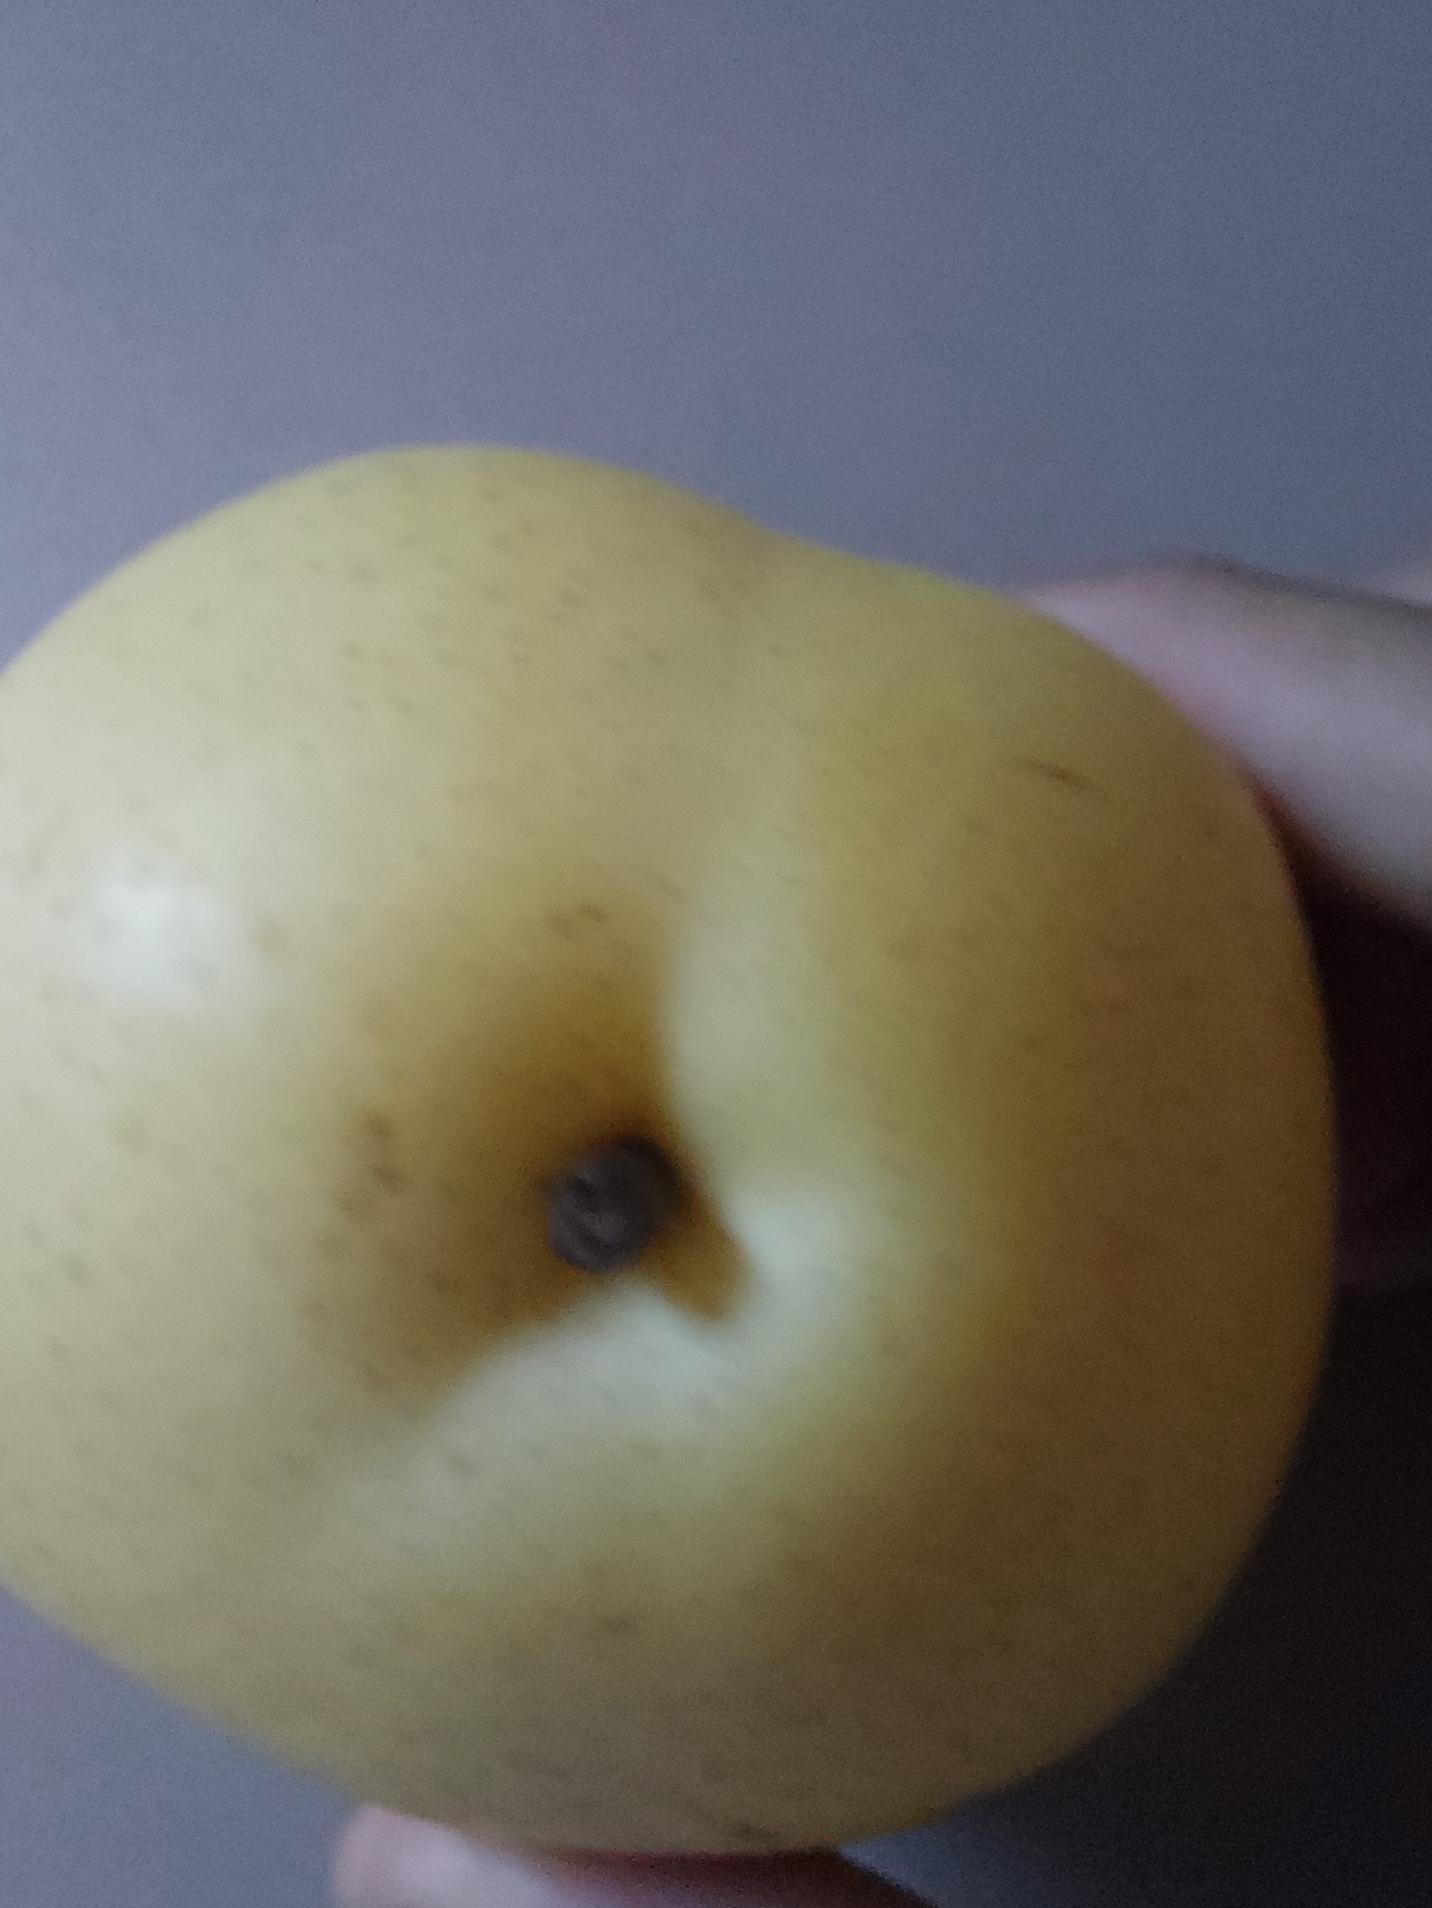Good Pear: (0, 432, 1328, 1863)
